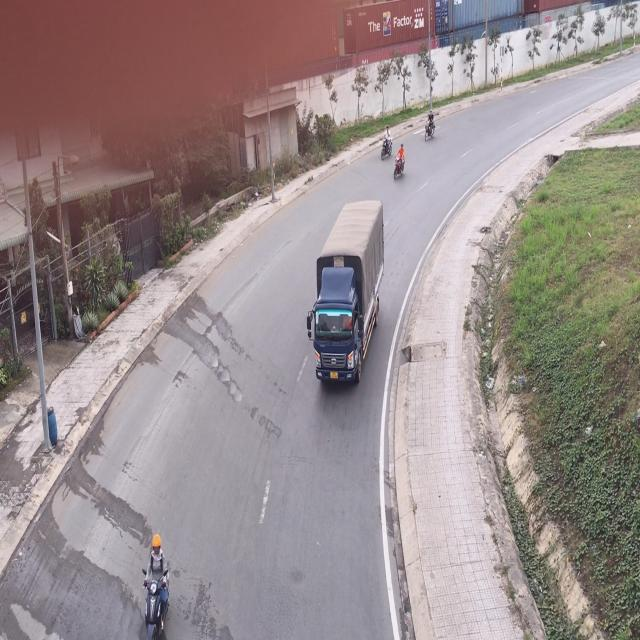motorbike: (145, 531, 172, 639), (392, 141, 406, 182), (423, 105, 438, 142), (381, 126, 393, 160)
truck: (308, 199, 384, 390)
